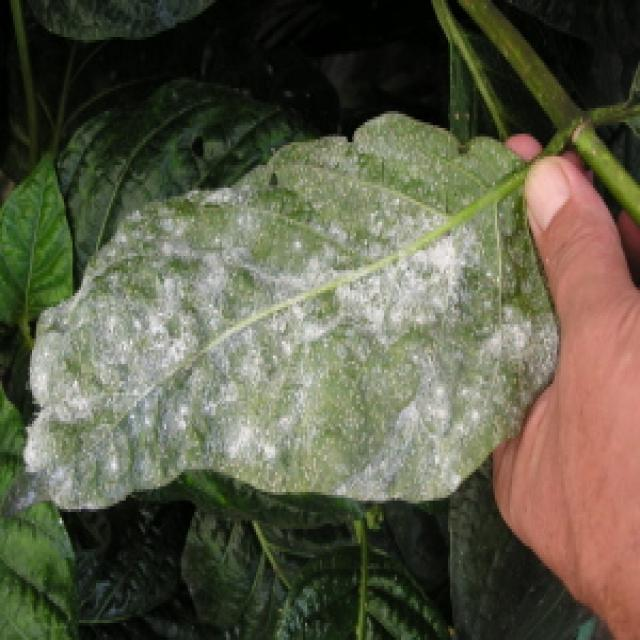Whitefly: (0, 103, 557, 508)
